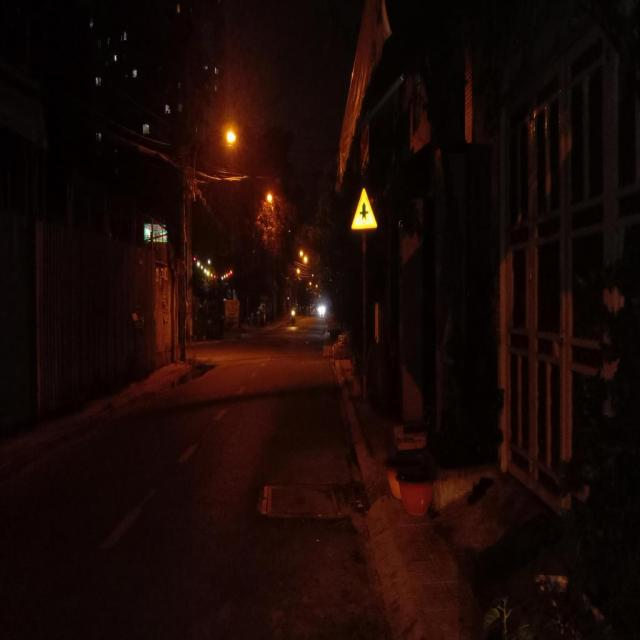giao_nhau_voi_duong_khong_uu_tien: (351, 185, 378, 230)
